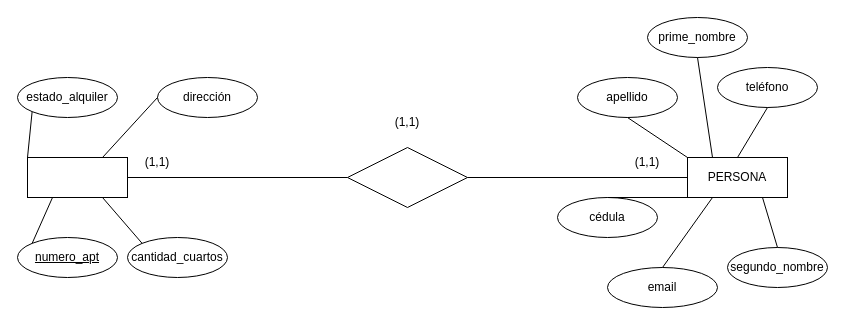
Some shapes in this 845 by 325 pixel diagram are drawn without their labels. Here are the shapes that lost their labels. From the top down, the centre of each, then its label:
At (77,177): "APARTAMENTO".
At (407,177): "ALQUILA".
